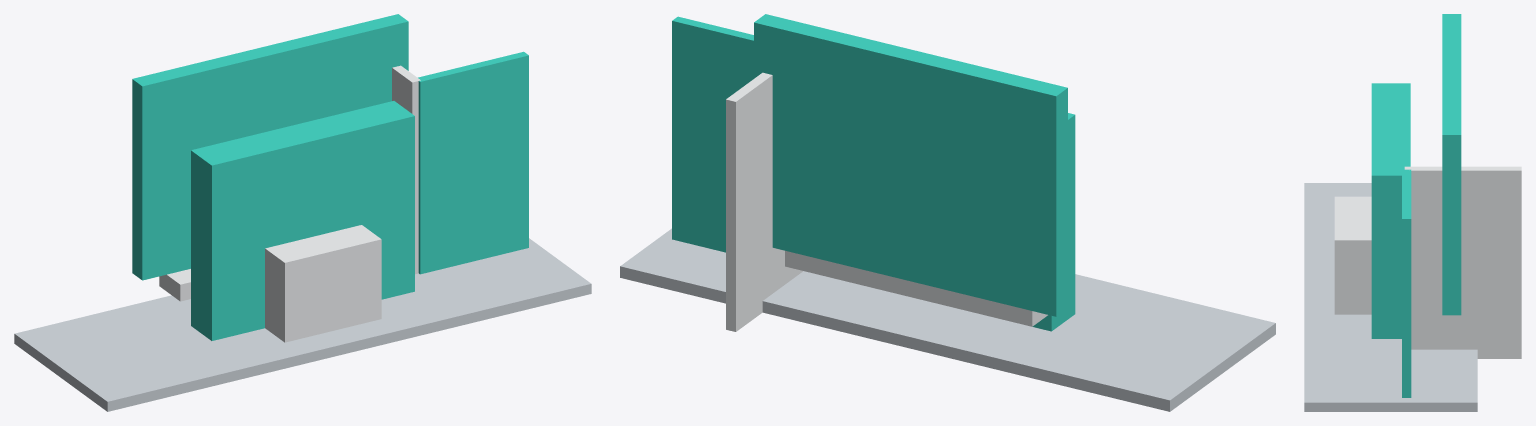
The picture shows the model from 3 angles, left to right: view 1: azimuth 30°, elevation 25°; view 2: azimuth 150°, elevation 25°; view 3: azimuth 270°, elevation 25°; orthographic projection. The views are drawn at different scales.
Visible parts, largest first — view 1: Exhibition Booth Concept; view 2: Exhibition Booth Concept; view 3: Exhibition Booth Concept.
Part boxes in pixels (bbox=[...]): Exhibition Booth Concept: bbox=[14, 14, 591, 411]; Exhibition Booth Concept: bbox=[620, 14, 1275, 411]; Exhibition Booth Concept: bbox=[1304, 14, 1521, 411].
Bounding box in the file's own units: 6 × 2.9 × 2.5.
